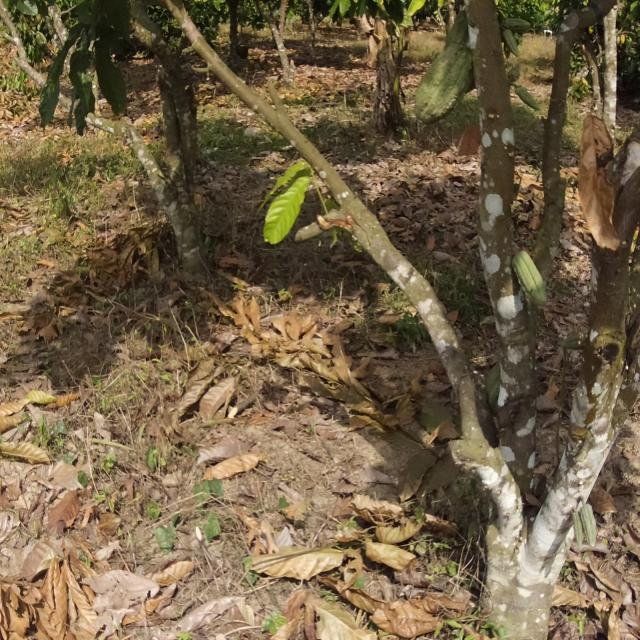Immature: (567, 501, 615, 557), (514, 251, 551, 314), (497, 11, 537, 57), (510, 74, 544, 120)
Mature_Unripe: (411, 13, 475, 128)
